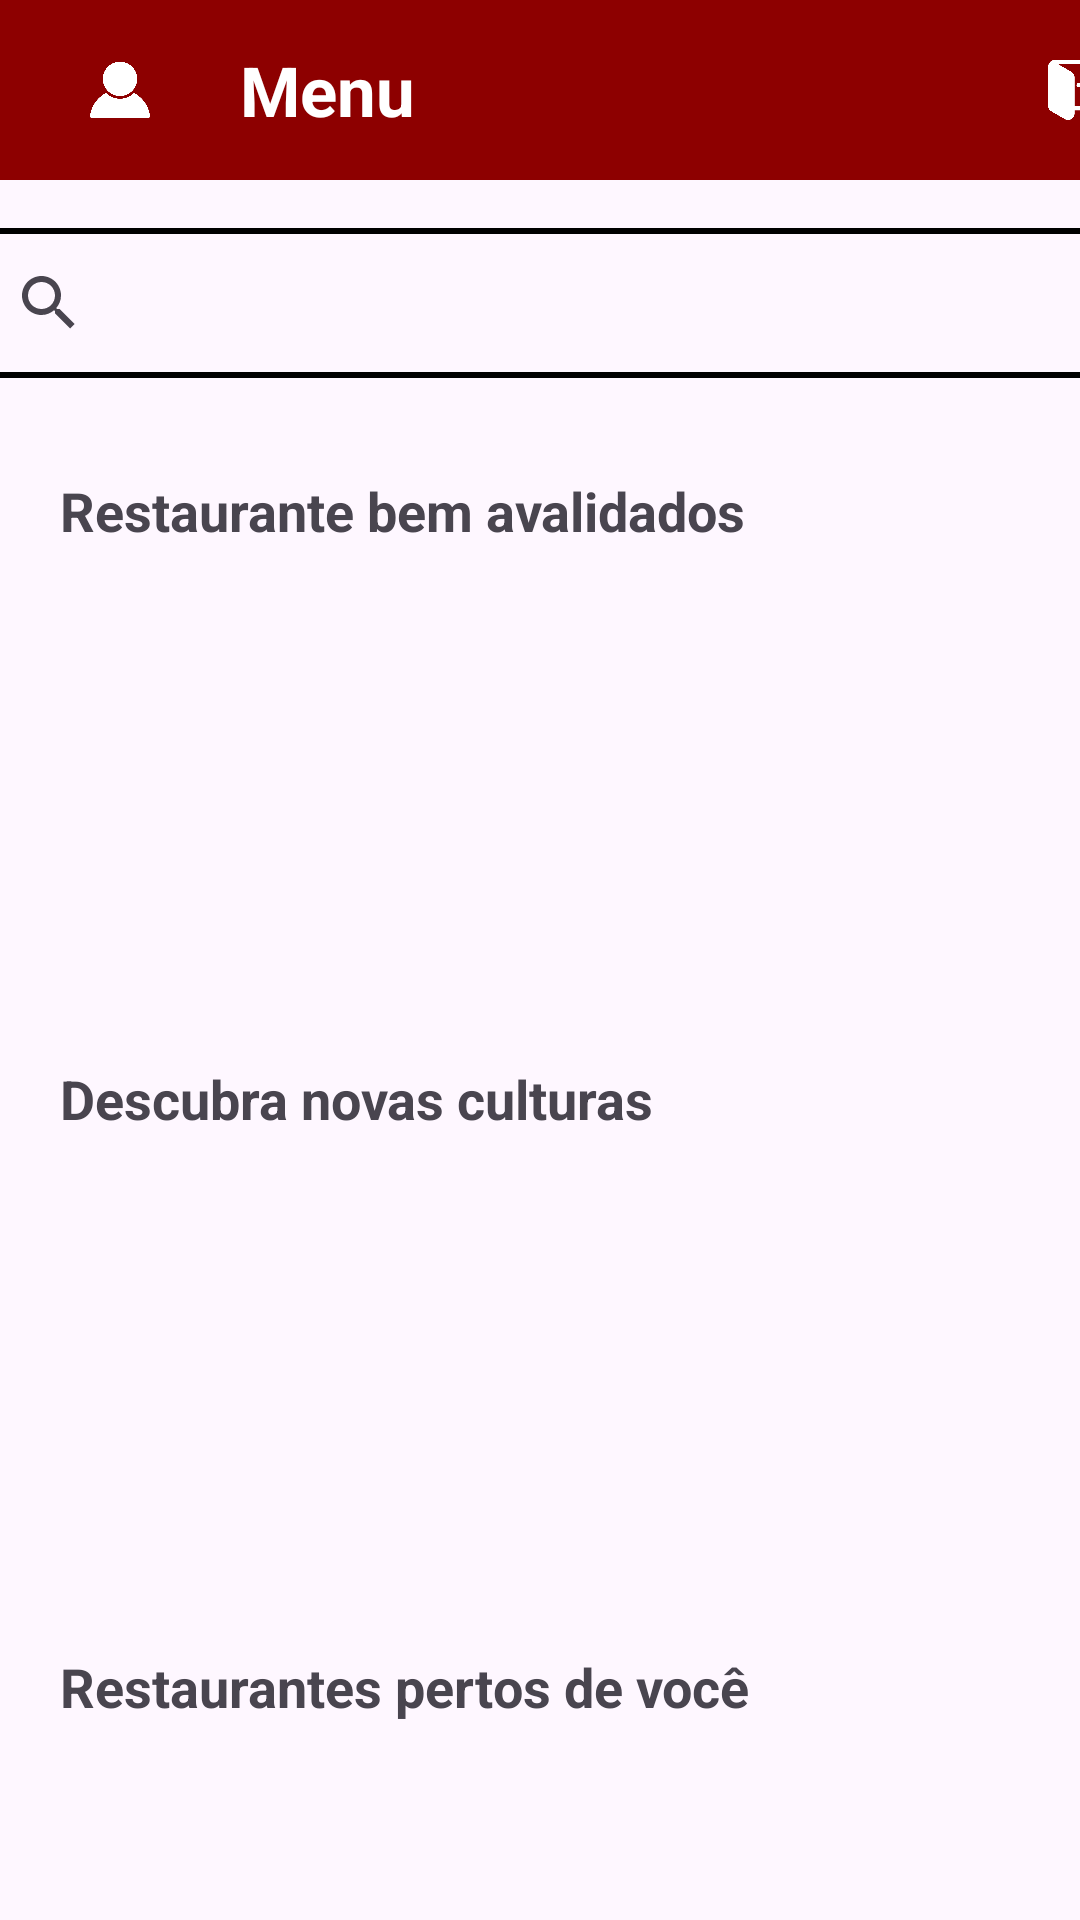

Icons on this 1080 x 1920 Android screen, each with the point to tap as (x=x, y=y):
user: (x=120, y=90)
